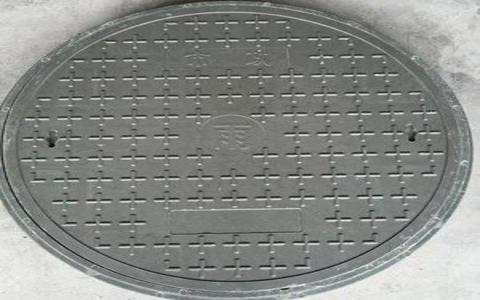proper manhole: (4, 1, 470, 296)
